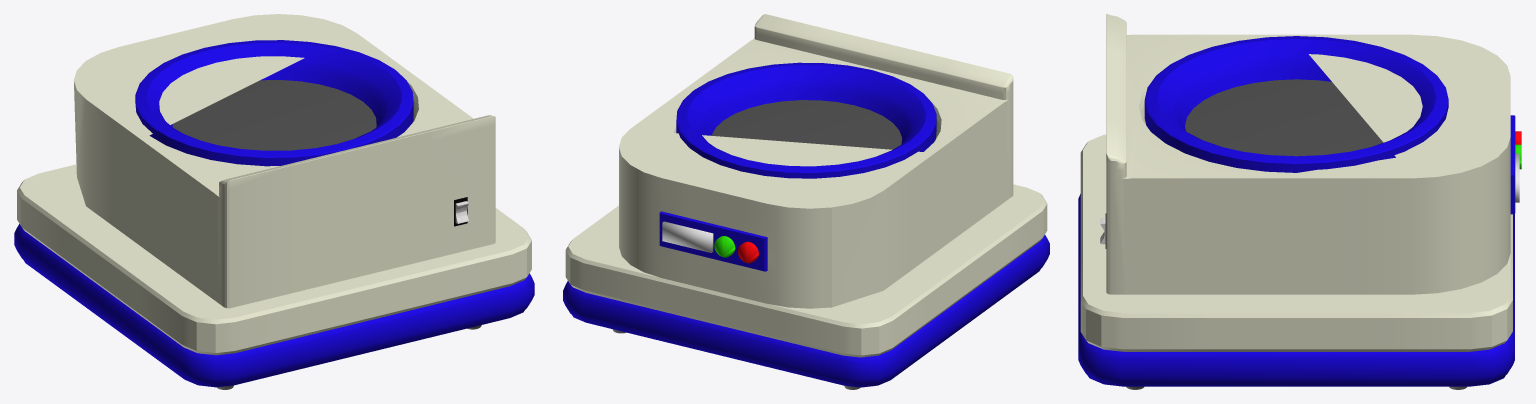
File: DesbastadoraModelV3.fbx
3 renders of one model, left to right at view 1: azimuth 30°, elevation 25°; view 2: azimuth 150°, elevation 25°; view 3: azimuth 270°, elevation 25°, orthographic. The views are drawn at different scales.
Visible parts, largest first — view 1: Body, Base, CubreLija, Rotor; view 2: Body, Base, CubreLija, Rotor, Caratula, Display; view 3: Body, CubreLija, Base, Rotor, Caratula.
Part boxes in pixels (x1=…): Body: x1=17, y1=14, x2=531, y2=355; Base: x1=14, y1=224, x2=534, y2=387; CubreLija: x1=135, y1=40, x2=413, y2=166; Rotor: x1=172, y1=80, x2=376, y2=150; Body: x1=565, y1=14, x2=1047, y2=357; Base: x1=563, y1=235, x2=1049, y2=387; CubreLija: x1=676, y1=62, x2=936, y2=178; Rotor: x1=711, y1=100, x2=901, y2=149; Caratula: x1=659, y1=211, x2=767, y2=271; Display: x1=662, y1=221, x2=713, y2=252; Body: x1=1080, y1=14, x2=1512, y2=351; CubreLija: x1=1144, y1=36, x2=1448, y2=172; Base: x1=1078, y1=194, x2=1514, y2=386; Rotor: x1=1185, y1=79, x2=1383, y2=156; Caratula: x1=1510, y1=115, x2=1515, y2=214.
Bounding box in the file's own units: 10.22 × 6.1 × 10.37.
